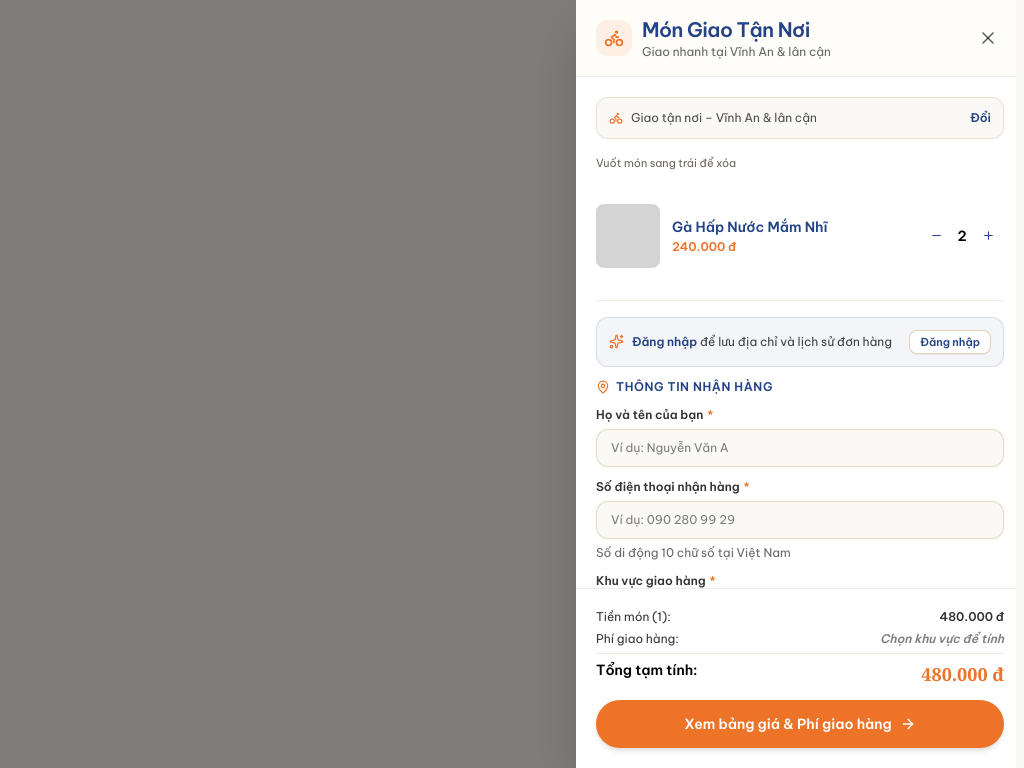
Test: CartDrawer Component › validates delivery form fields when user clicks Xem bảng giá & Phí giao hàng without input
Click the button "Xem bảng giá & Phí giao hàng".
click(800, 724)  # box x1=596 y1=700 x2=1004 y2=748
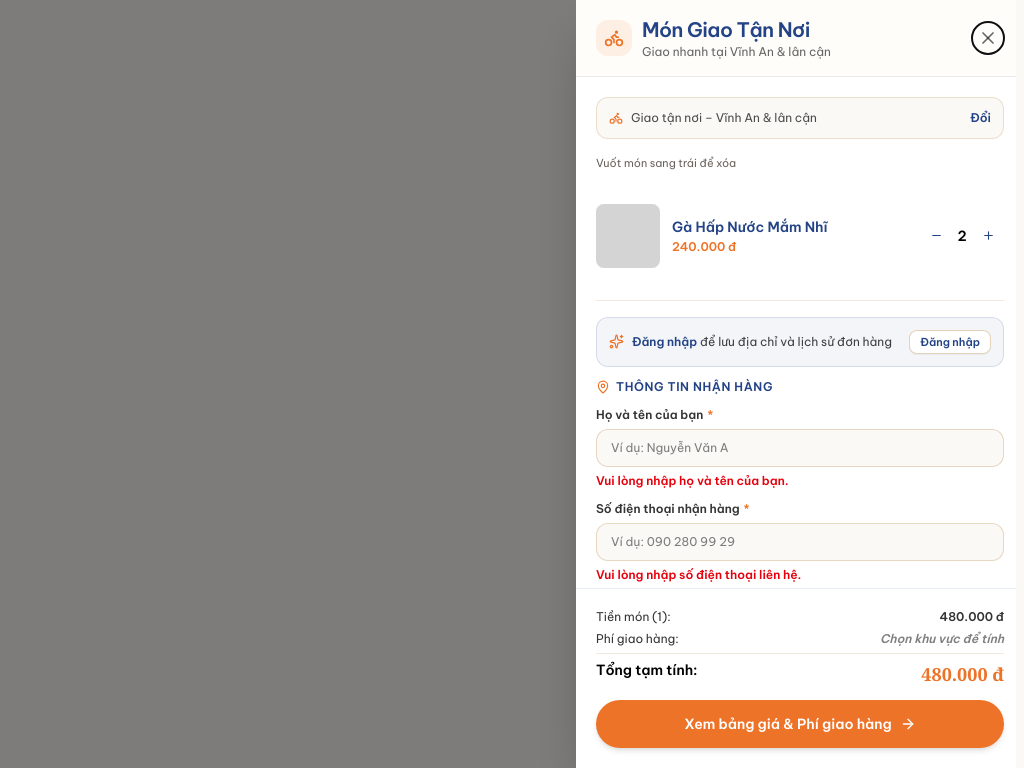
Check: the text "Vui lòng nhập họ và tên của bạn." is shown, box x1=596 y1=473 x2=789 y2=488
Check: the text "Vui lòng nhập số điện thoại liên hệ." is shown, box x1=596 y1=567 x2=801 y2=582
